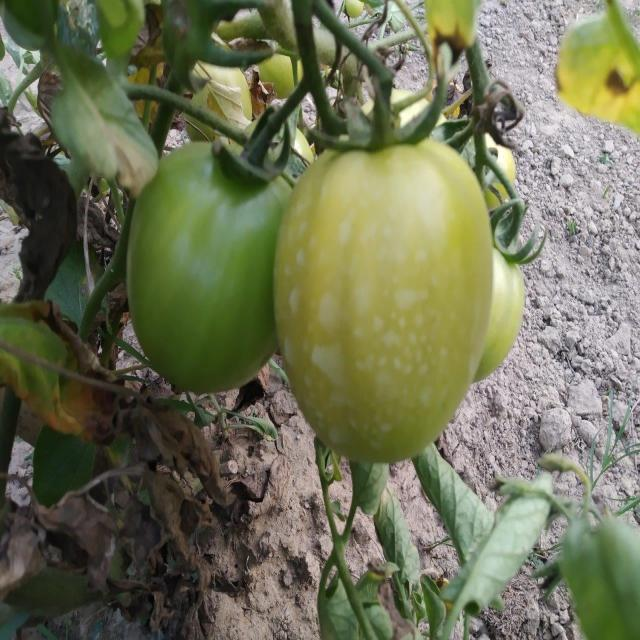Unripe: (275, 108, 495, 462), (127, 136, 283, 393)
